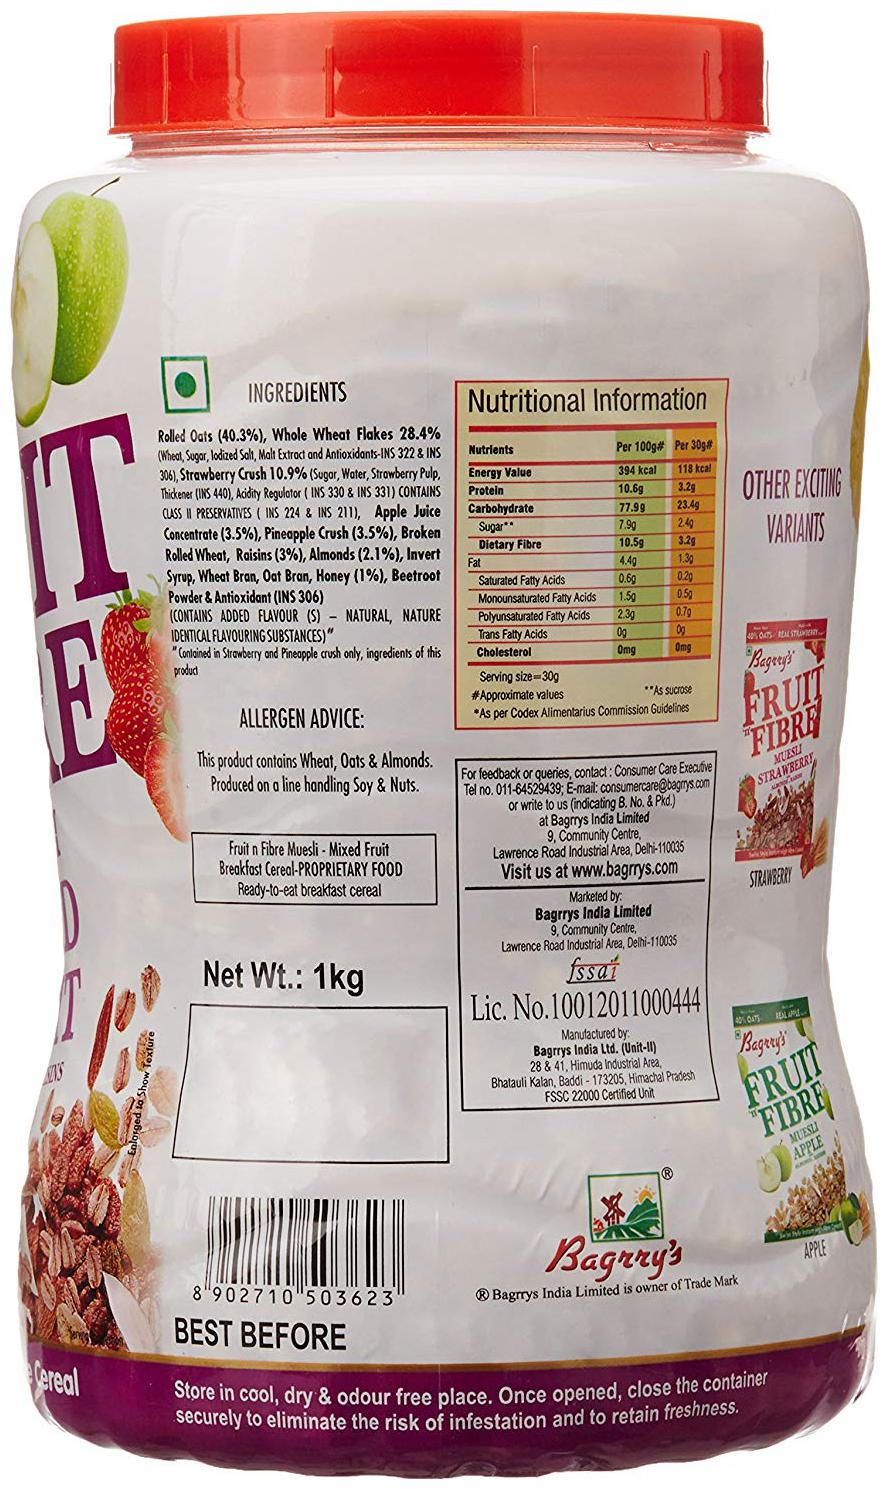fssai: (566, 955, 619, 985)
